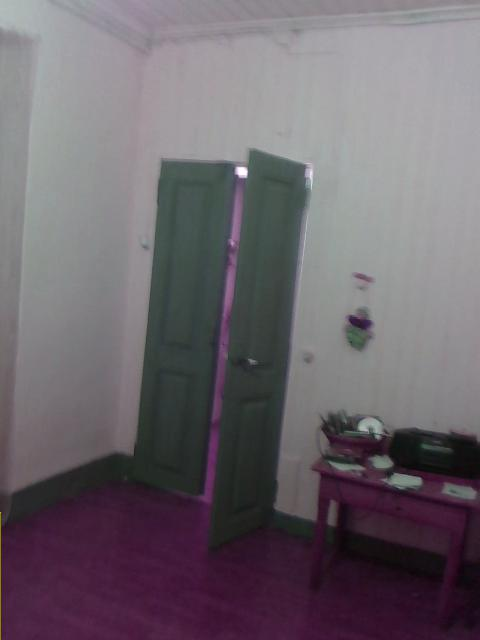semi_door: (130, 144, 312, 556)
